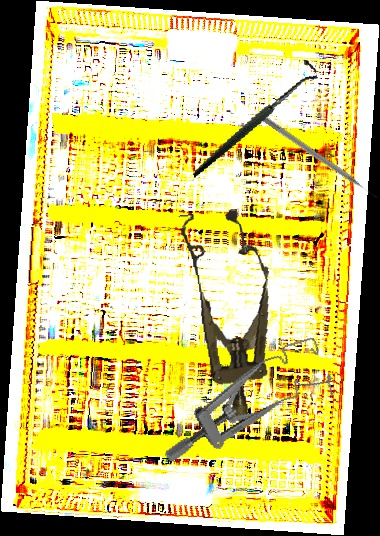Hook Surgical: (173, 57, 334, 178)
Pusher: (259, 114, 379, 202)
Speculum: (144, 333, 343, 466), (175, 205, 287, 432)
